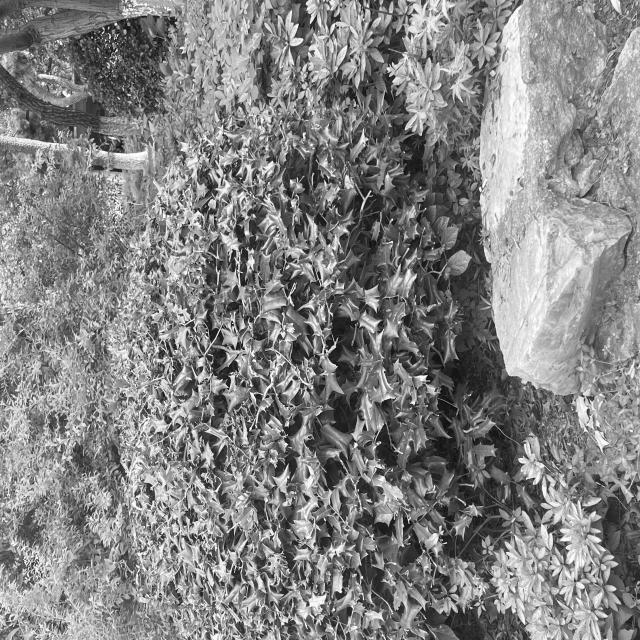Stone: (480, 0, 640, 395)
